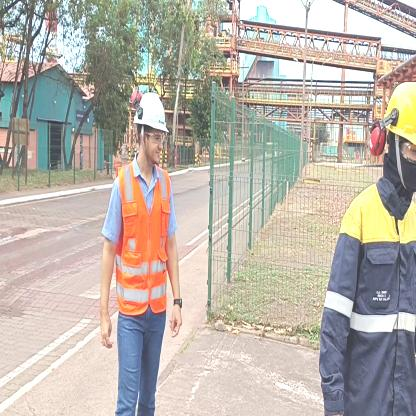Balaclava: (381, 132, 416, 201)
C_eletrica: (313, 176, 416, 416)
Capacete: (374, 80, 416, 140), (128, 88, 172, 131)
colete: (115, 158, 176, 316)
